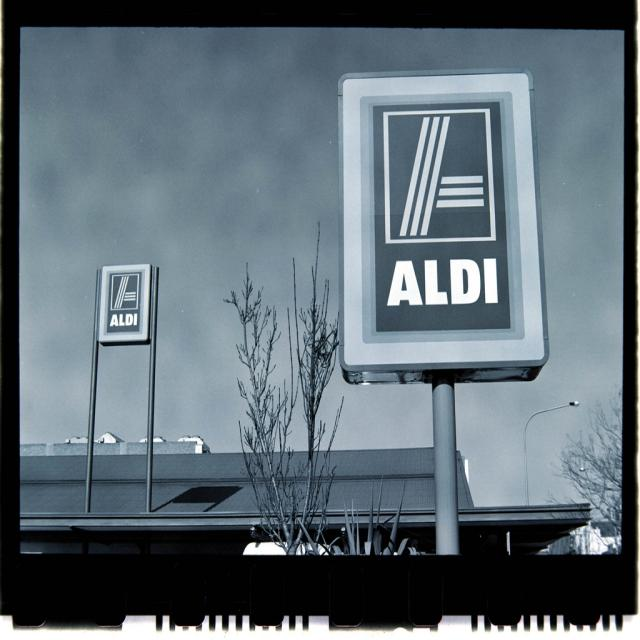aldi: (342, 72, 547, 367), (99, 263, 153, 343)
